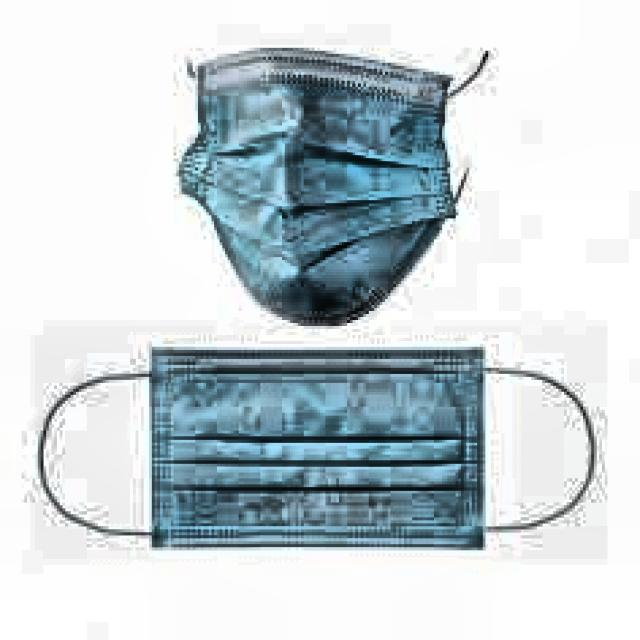trash: (178, 44, 472, 326), (143, 342, 488, 556)
